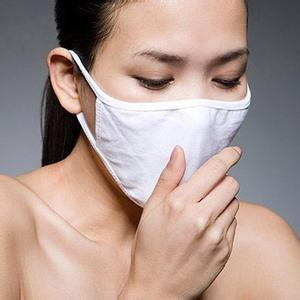mask: (67, 43, 276, 209)
